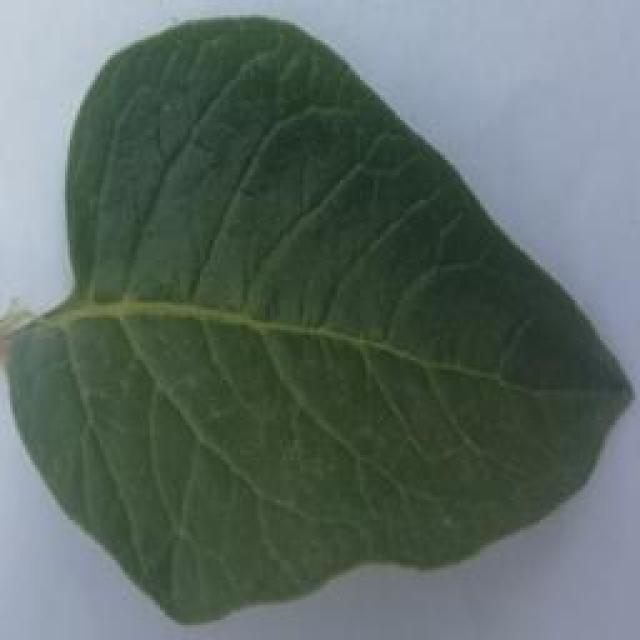Potato_Healthy: (7, 17, 624, 624)
